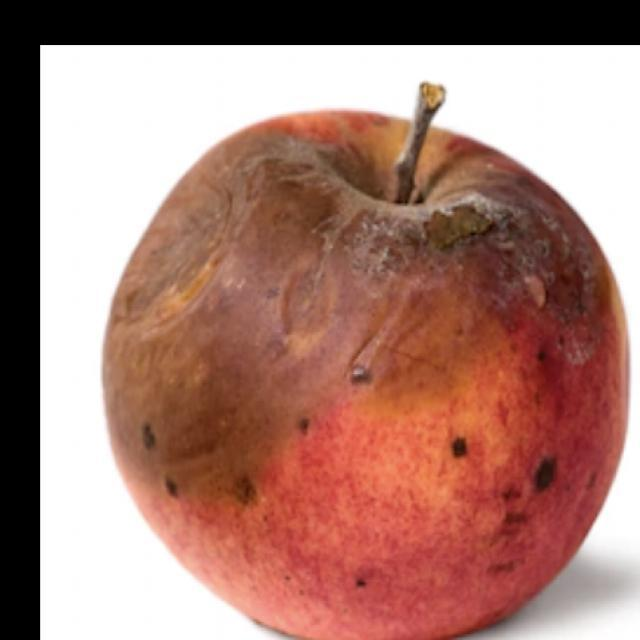Rotten: (97, 96, 635, 640)
